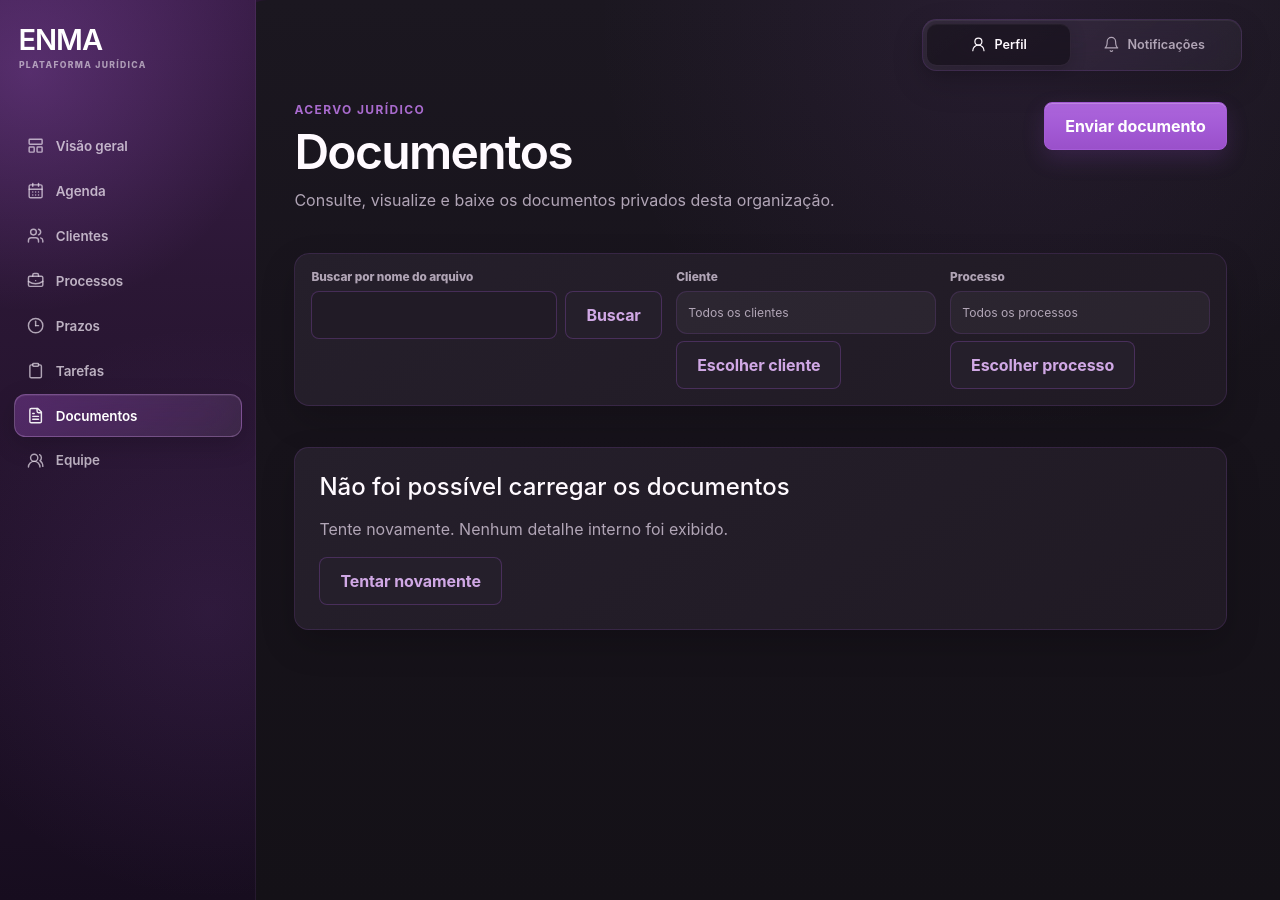
Test: Documents D1 flow › DocumentsError_HidesServerDetailsAndOffersRetry
The image size is (1280, 900).
Expected: the heading "Não foi possível carregar os documentos" is shown, [319, 472, 790, 501]
Click the button "Tentar novamente". click: click(411, 581)
box: [319, 557, 502, 605]
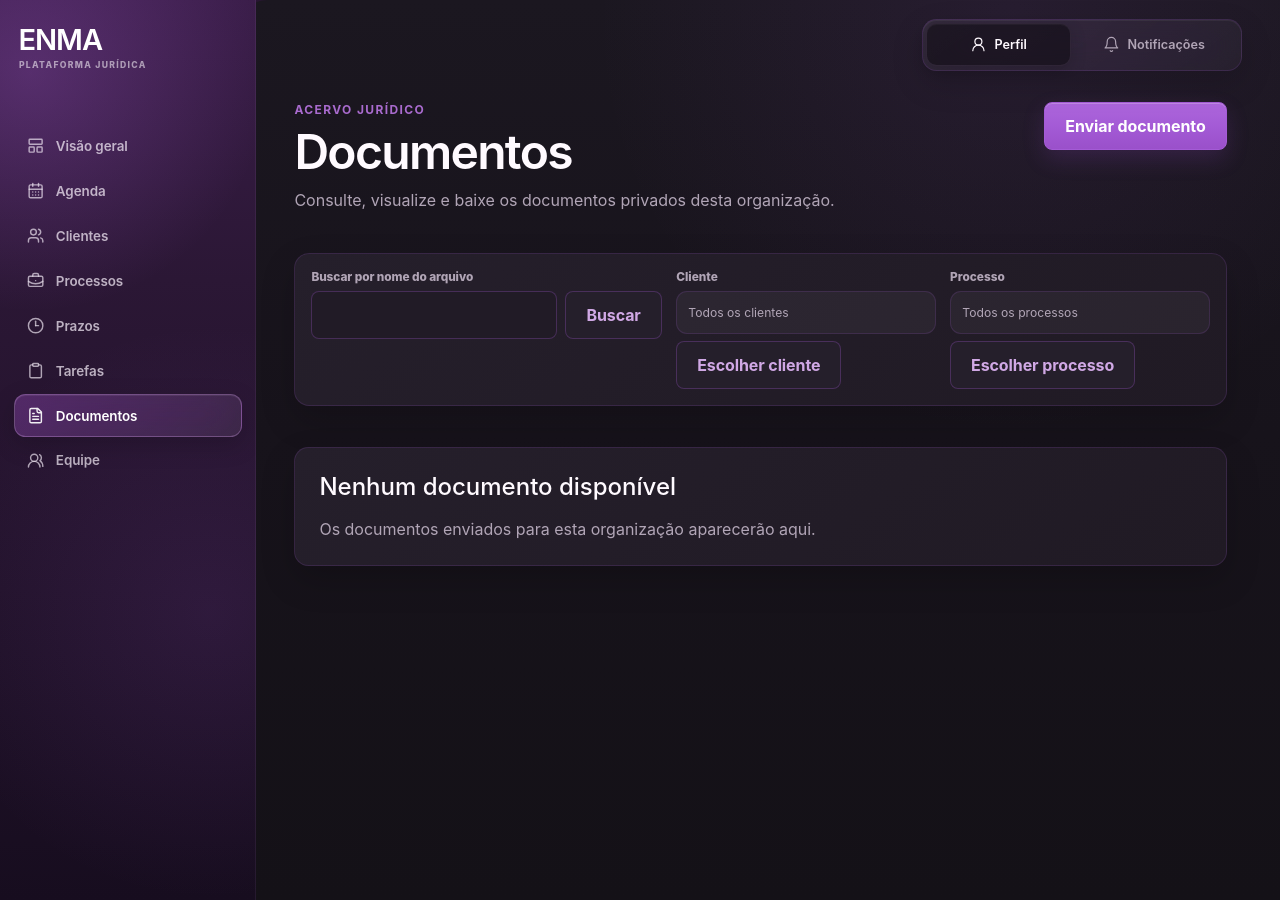
Expected: the heading "Nenhum documento disponível" is shown, [319, 472, 676, 501]
